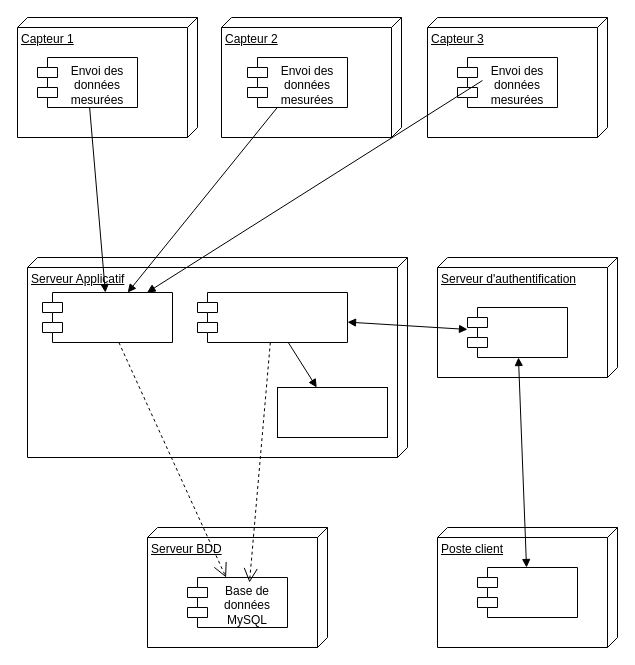
The diagram is 635 pixels wide and 665 high, and some of its shapes have lost their labels. Each missing label, with the centre of its shape:
"Fichier log" belongs at (x=332, y=412).
"Gestion des accès et des droits" belongs at (x=517, y=332).
"Mise en forme des information pour consultation" belongs at (x=272, y=317).
"Réception et traitement des informations" belongs at (x=107, y=317).
"Web Browser" belongs at (x=527, y=592).
